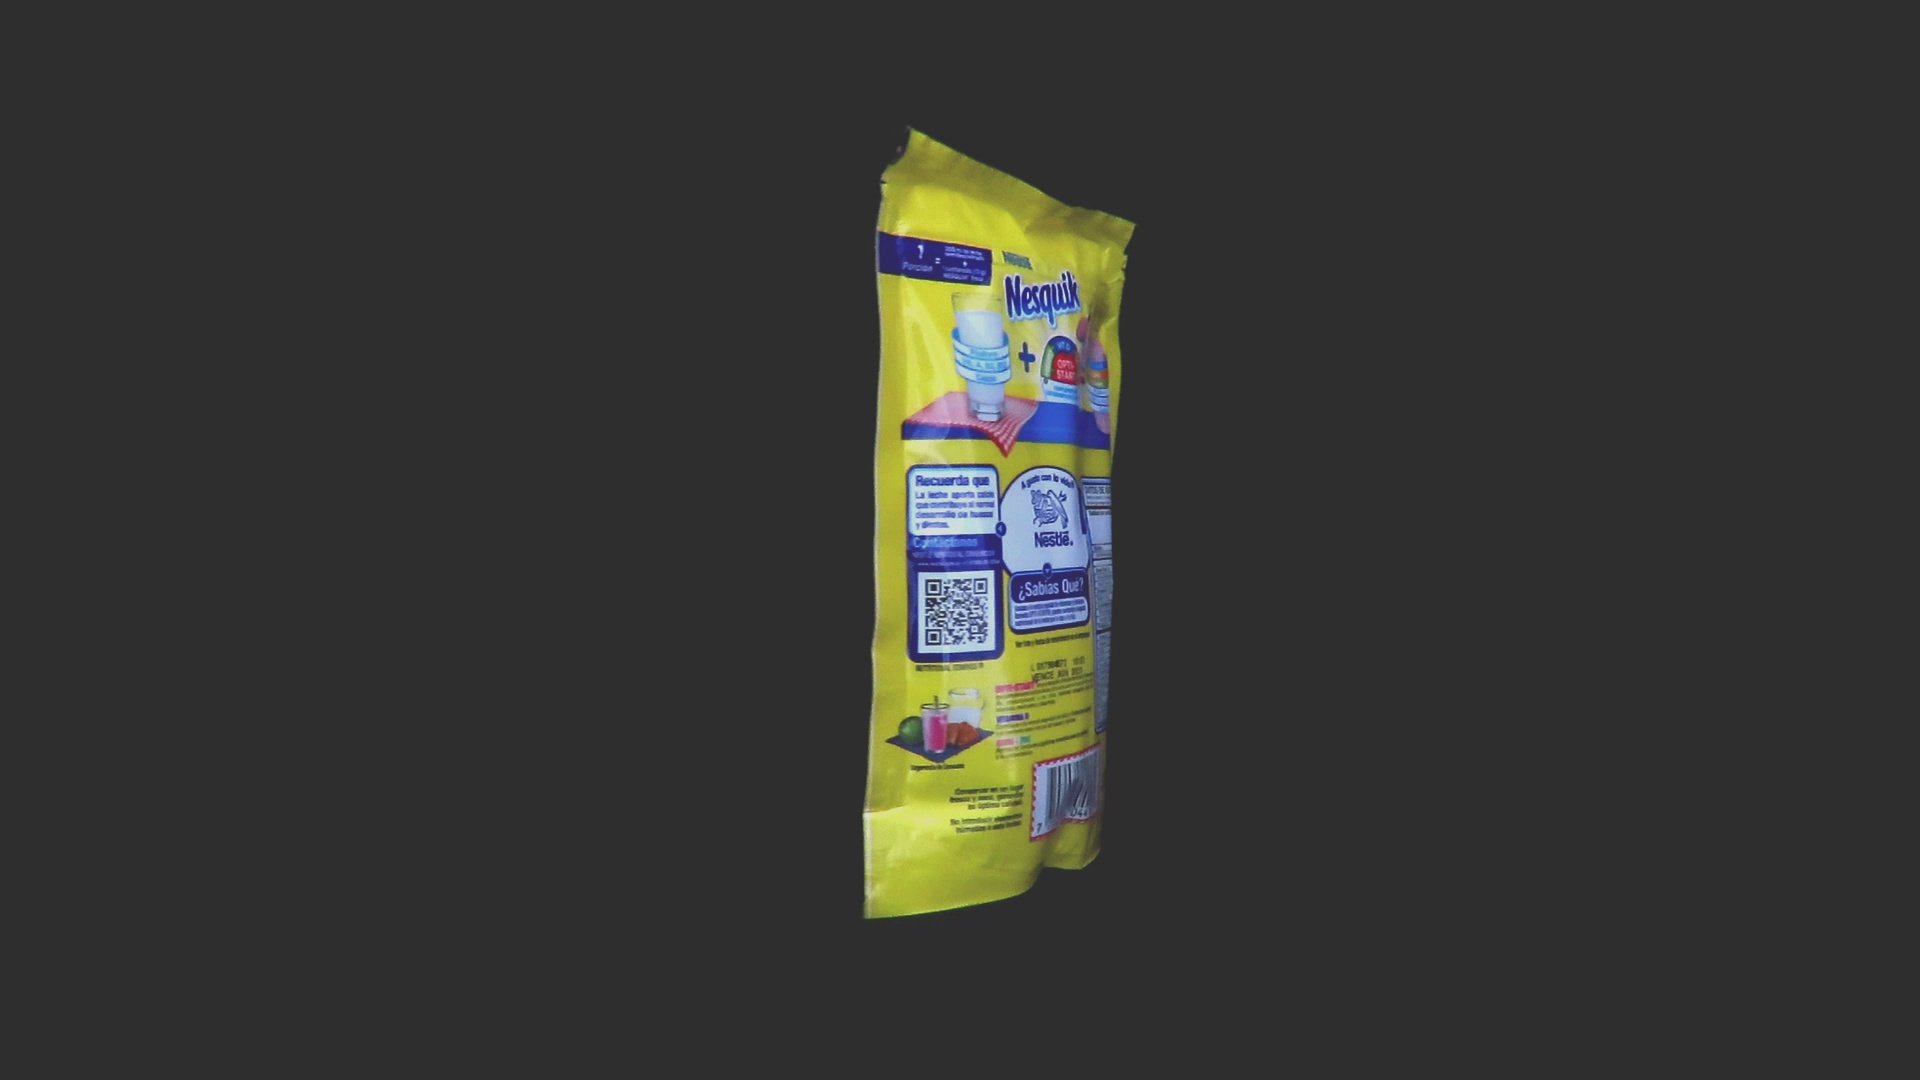COL0170305DYP20000: (857, 121, 1142, 924)
